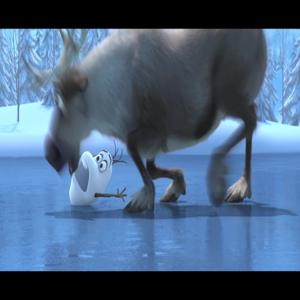olaf: (66, 139, 129, 226)
